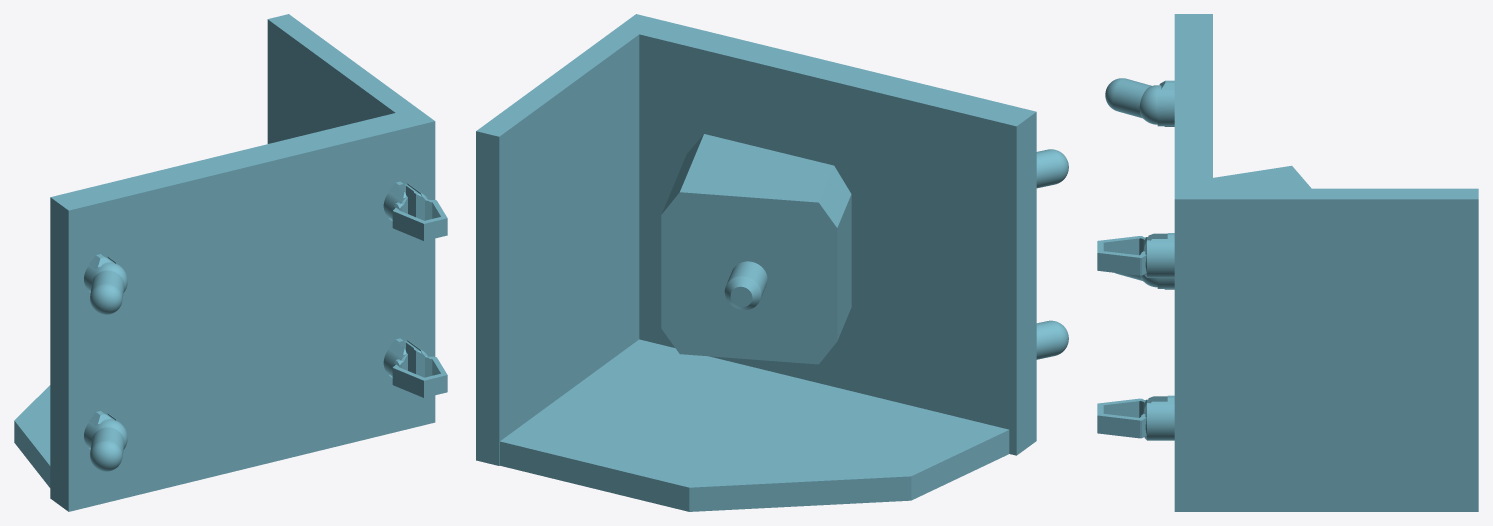
Rendered from part-braid__current-mounts-v1__fit-pf02c9-hoop5__print.glb.
3 views of the same model, side by side, from view 1: azimuth 30°, elevation 25°; view 2: azimuth 150°, elevation 25°; view 3: azimuth 270°, elevation 25° (orthographic). The views are drawn at different scales.
Visible parts, largest first — view 1: print.stl; view 2: print.stl; view 3: print.stl.
Part boxes in pixels (x1,y1,x2,y2): print.stl: (14, 14, 447, 511); print.stl: (476, 14, 1068, 511); print.stl: (1097, 14, 1478, 511).
Bounding box in the file's own units: 0.0624 × 0.0488 × 0.0539.
